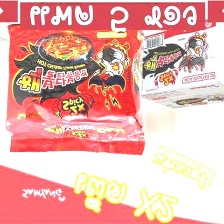snack: (0, 25, 153, 159)
